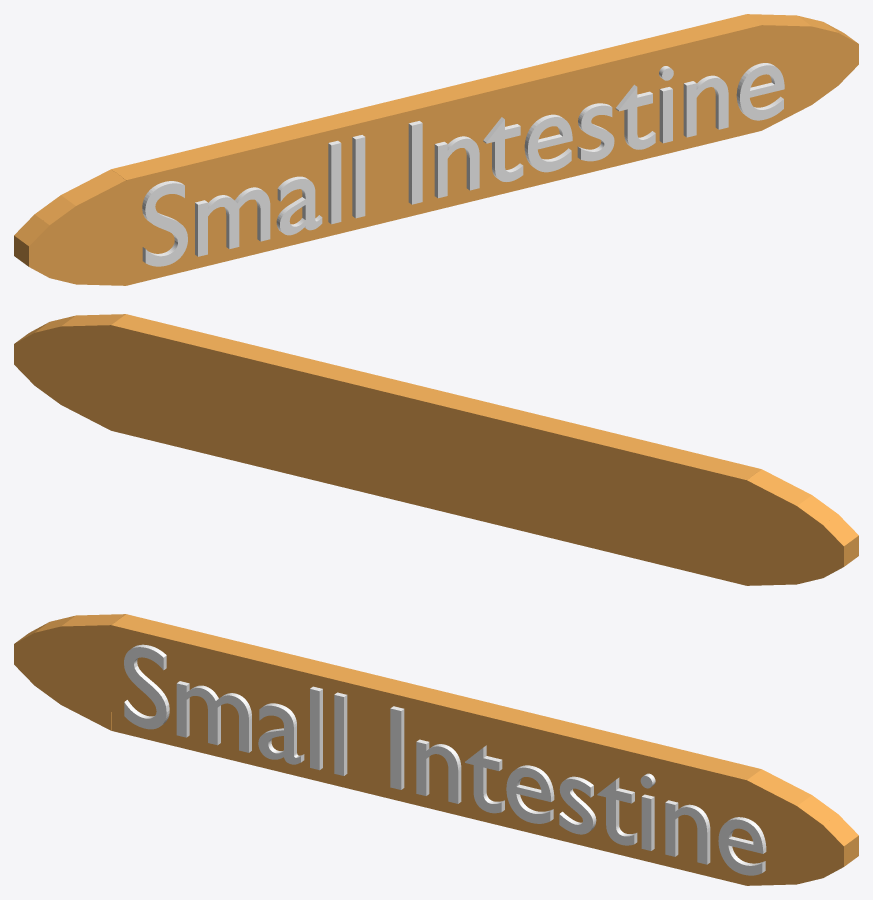
The model's file is TxtSmallIntestine.fbx.
3 renders of one model, top to bottom at view 1: azimuth 30°, elevation 25°; view 2: azimuth 150°, elevation 25°; view 3: azimuth 330°, elevation 25°, orthographic.
Parts seen in each view (by area): view 1: TagContainer.033, Text.032; view 2: TagContainer.033; view 3: TagContainer.033, Text.032.
Part boxes in pixels (x1,y1,x2,y2): TagContainer.033: (14,14,858,285); Text.032: (142,63,784,266); TagContainer.033: (14,314,858,585); TagContainer.033: (14,614,858,885); Text.032: (124,644,766,875).
Size of the model in its own units: 339 by 41.3 by 12.94.
